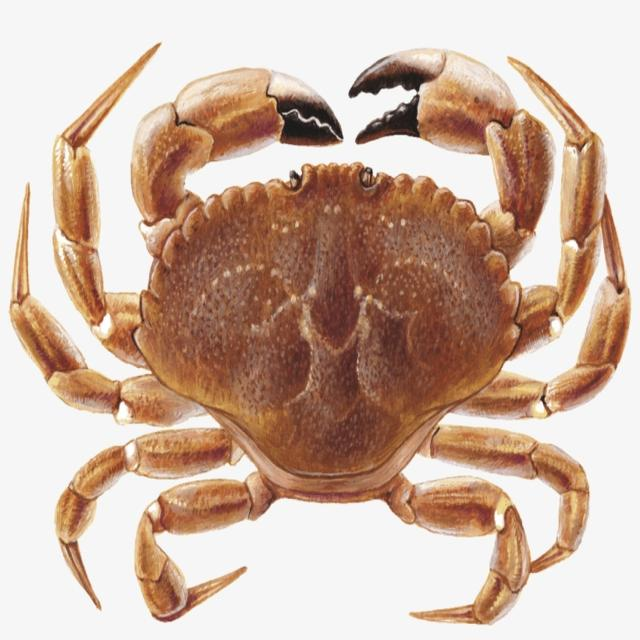Native Jonah crab: (11, 49, 631, 623)
